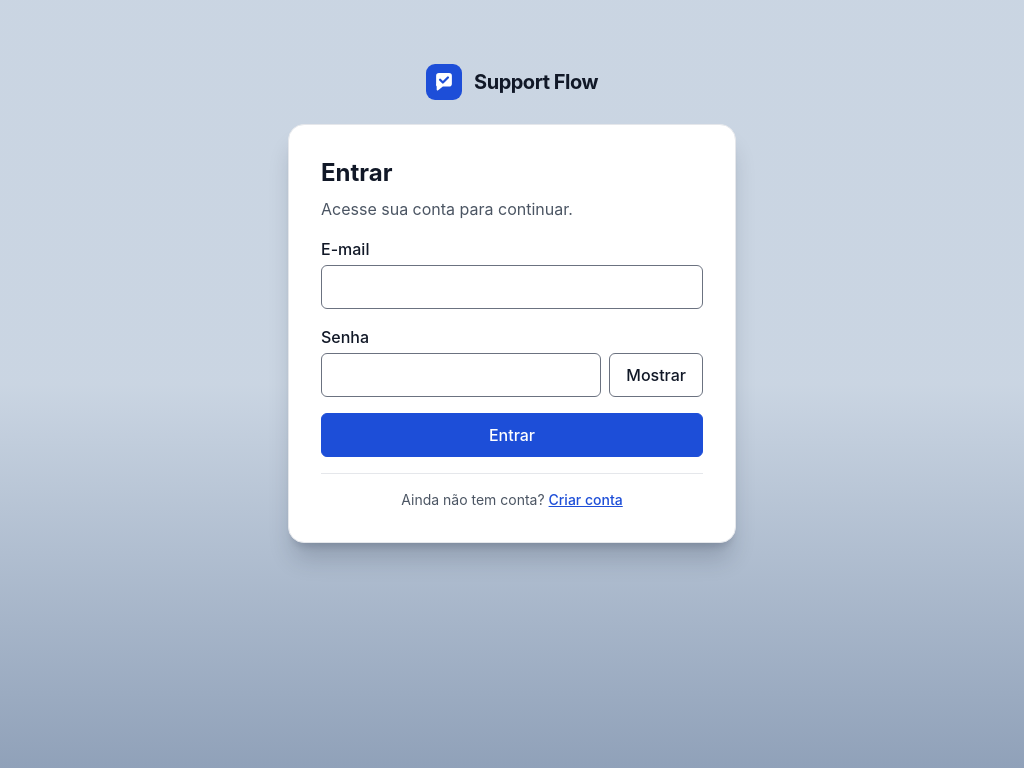
Scenario: sessão e rotas › credenciais erradas ficam na tela com o texto digitado
Type "a@x.dev" into the field labelled "E-mail" at (512, 287), box [321, 265, 703, 309]
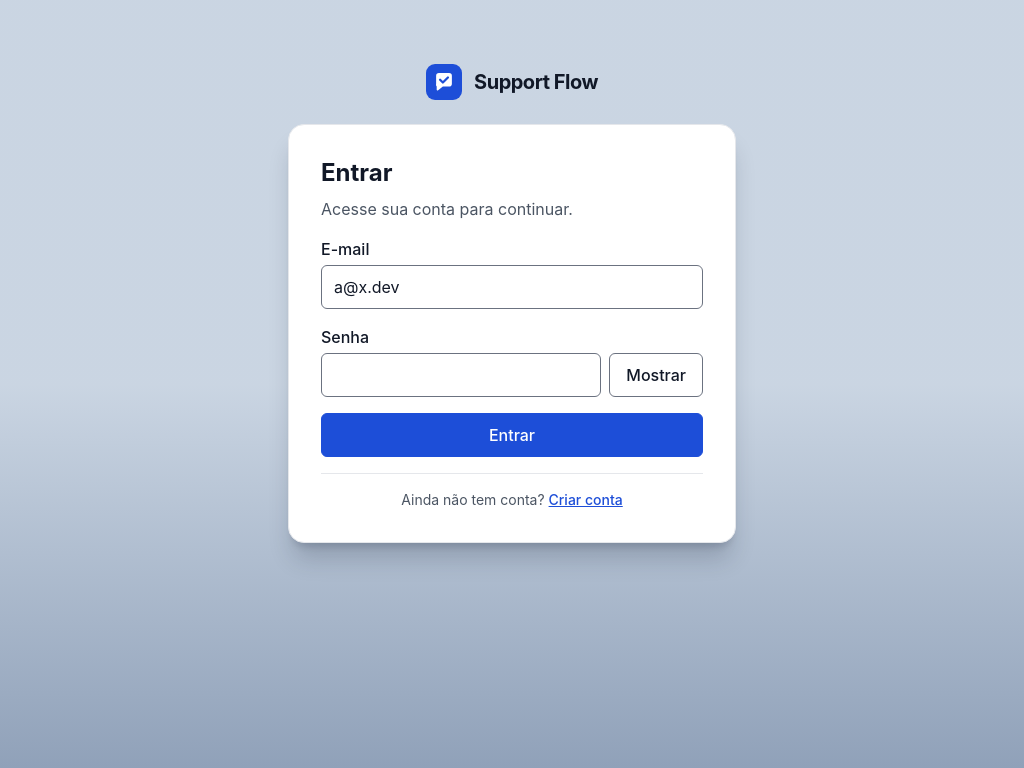
Type "errada" into the password field labelled "Senha" at (461, 375), box [321, 353, 601, 397]
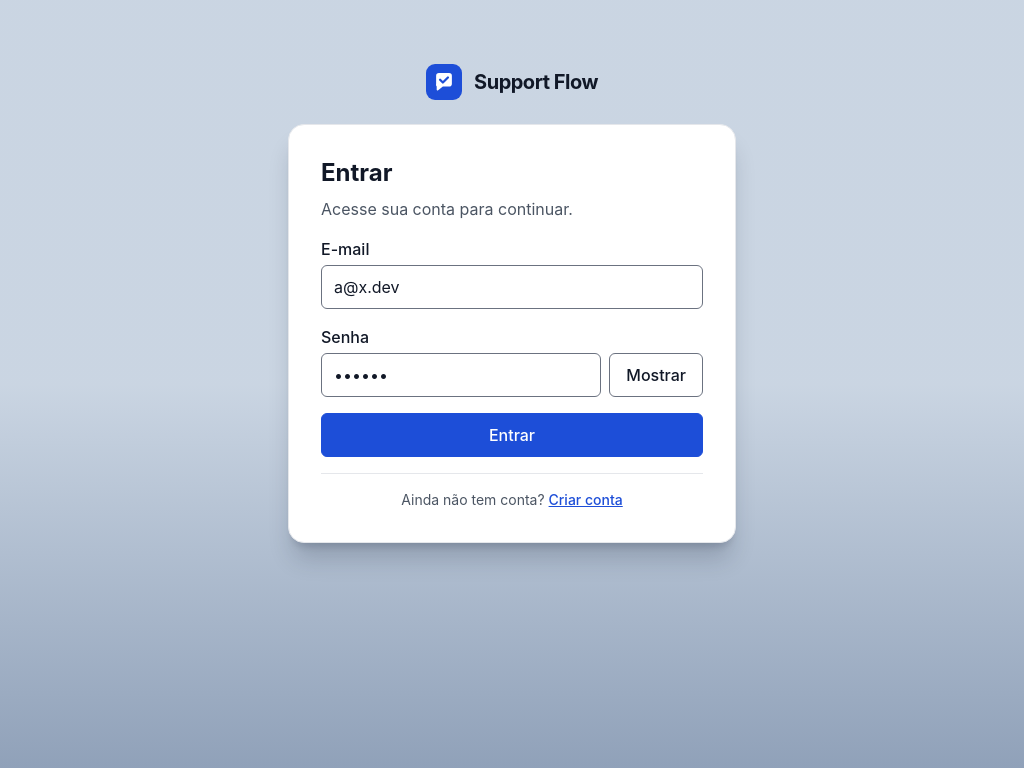
Click the button "Entrar" at (512, 435), box [321, 413, 703, 457]
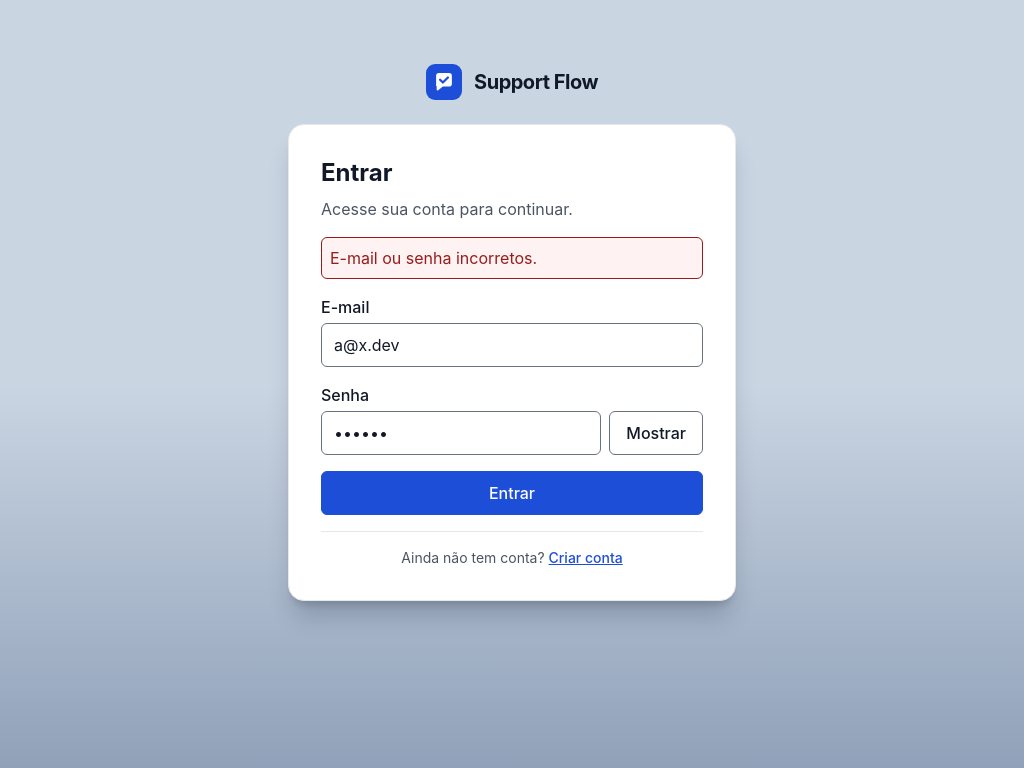
Expected: the message reads "E-mail ou senha incorretos.", [330, 248, 537, 268]
